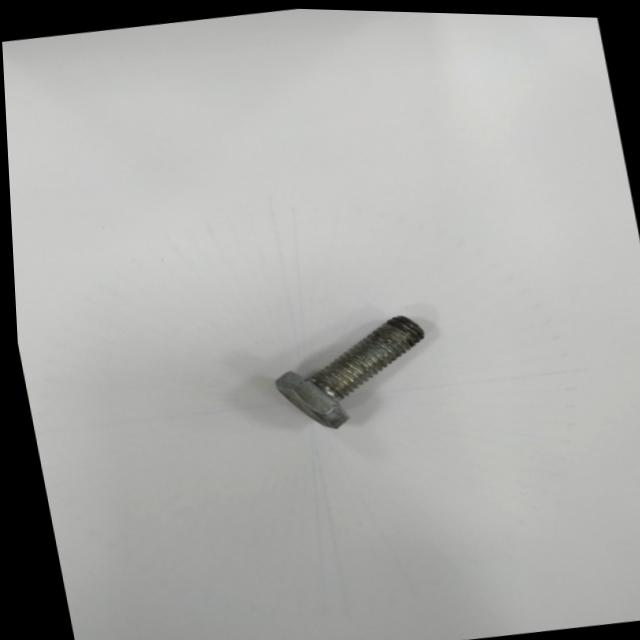Bolt: (271, 313, 420, 426)
